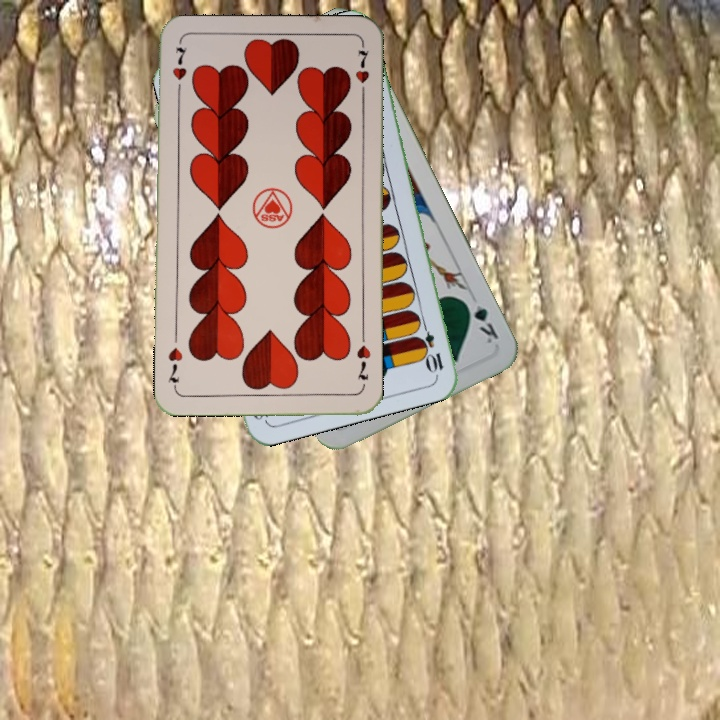E10: (416, 316, 447, 375)
GK: (460, 296, 502, 346)
H7: (169, 43, 189, 99), (352, 342, 373, 383)
